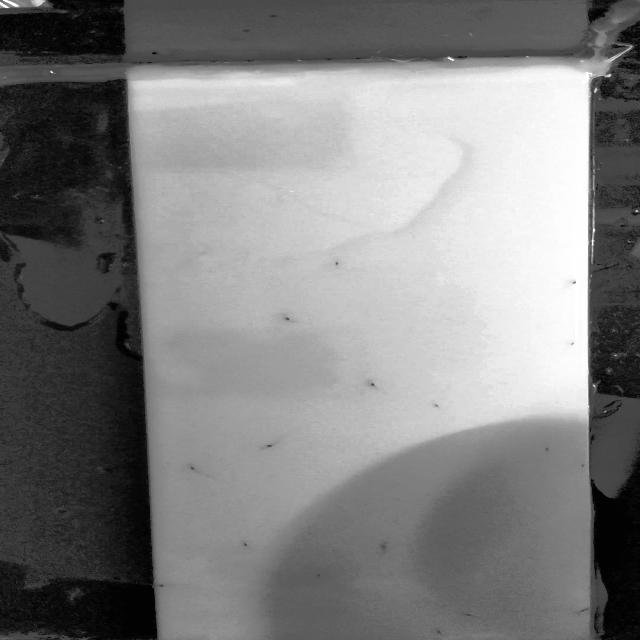shrimp: (183, 462, 220, 479), (256, 436, 289, 452), (150, 580, 194, 589), (432, 624, 456, 640), (369, 540, 391, 556), (455, 610, 489, 620), (539, 442, 560, 457), (365, 379, 386, 394), (572, 603, 601, 613), (566, 274, 584, 290), (276, 312, 304, 322), (238, 538, 257, 552), (306, 569, 329, 580), (330, 259, 348, 270), (564, 336, 580, 348), (432, 403, 453, 411)
